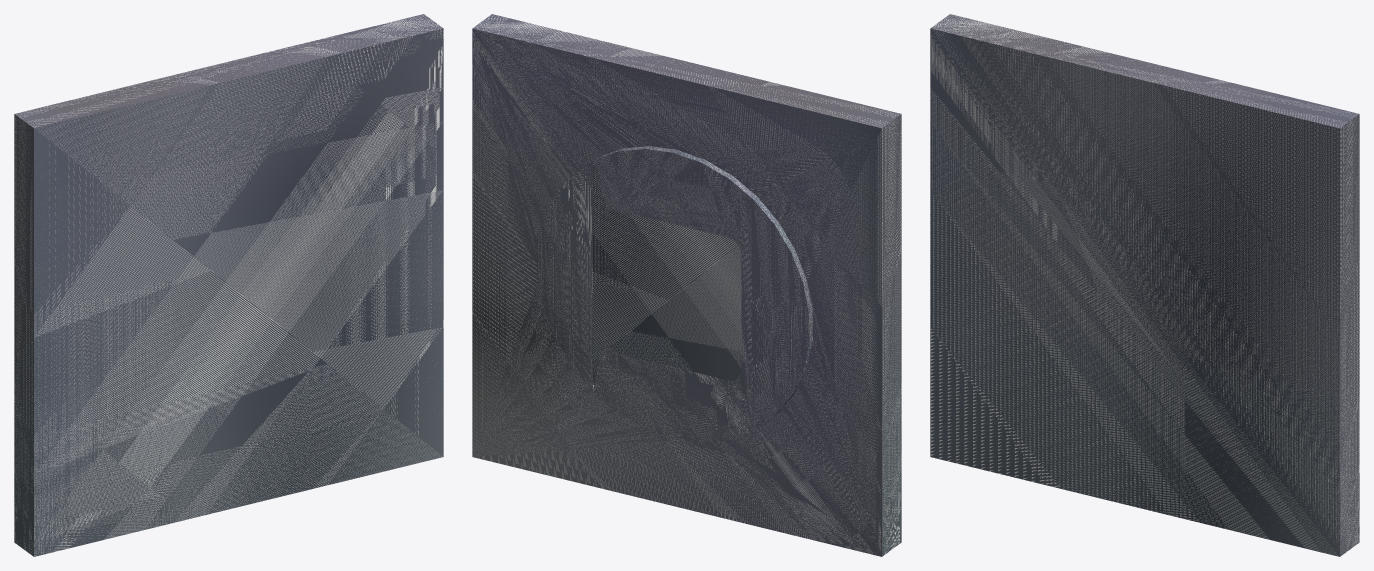
3 renders of one model, left to right at view 1: azimuth 30°, elevation 25°; view 2: azimuth 150°, elevation 25°; view 3: azimuth 330°, elevation 25°, orthographic.
Size of the model in its own units: 0.0545 by 0.0545 by 0.00545.
